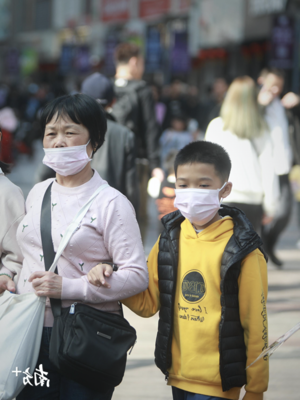with_mask: (41, 120, 94, 178), (174, 174, 221, 226)
